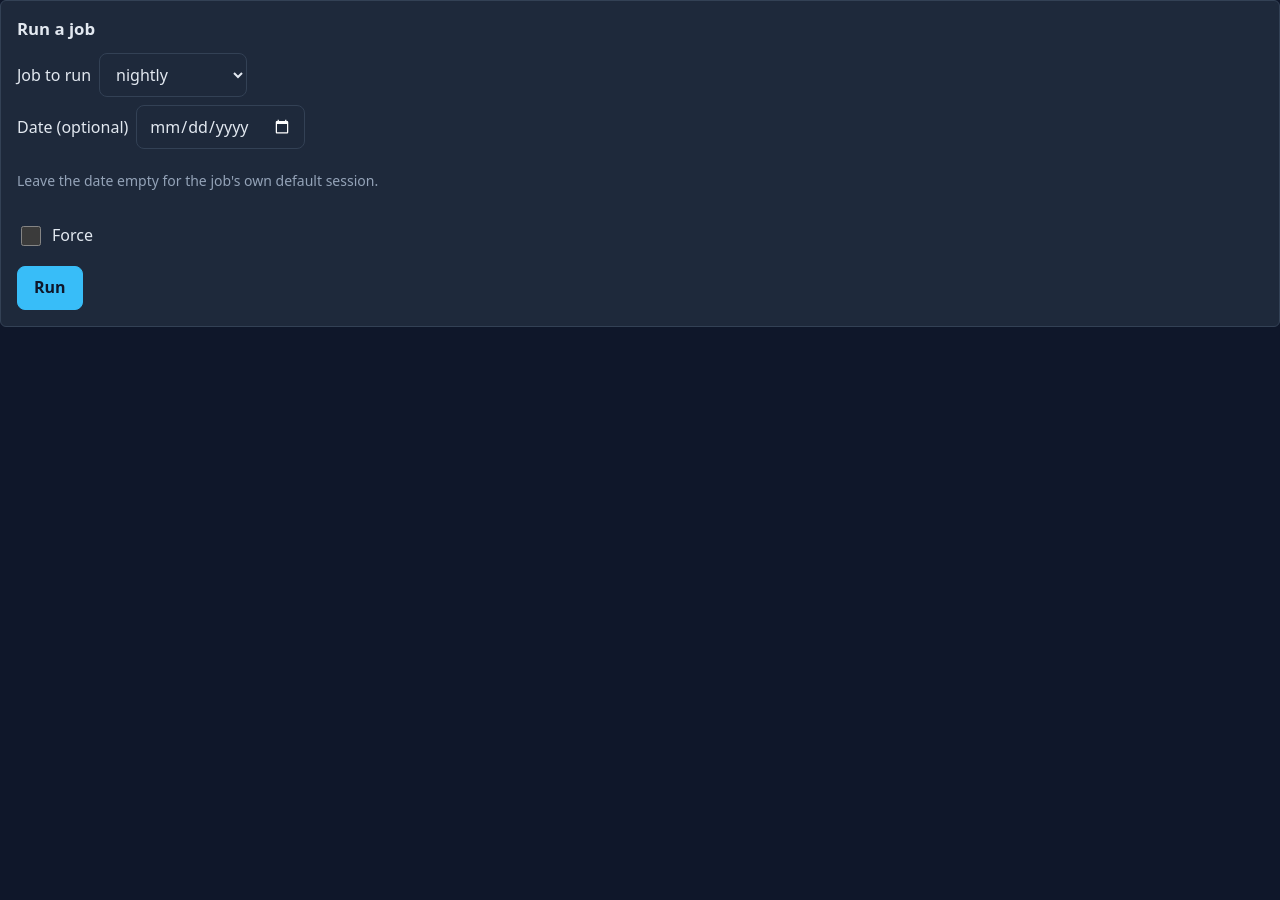
Test: RunJob (acceptance test 4) › shows the launched session, or 'no date' when the launch has none (P4-T18)
The width and height of the screenshot is (1280, 900).
Select "token-refresh" in the dropdown labelled "Job to run". click: (173, 75)
box: [99,53,247,97]
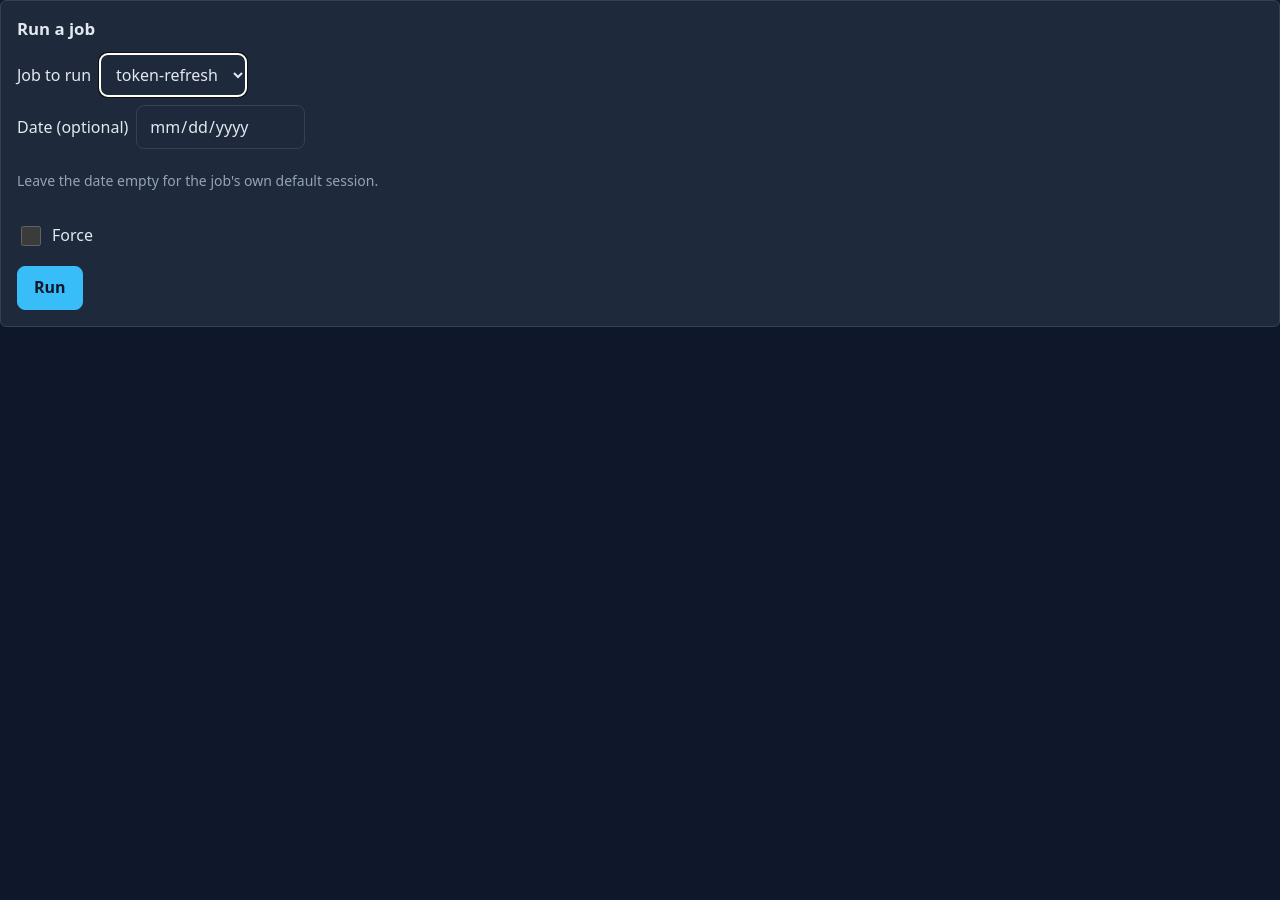
Click the button "Run". click: (50, 288)
box: [17,266,83,310]
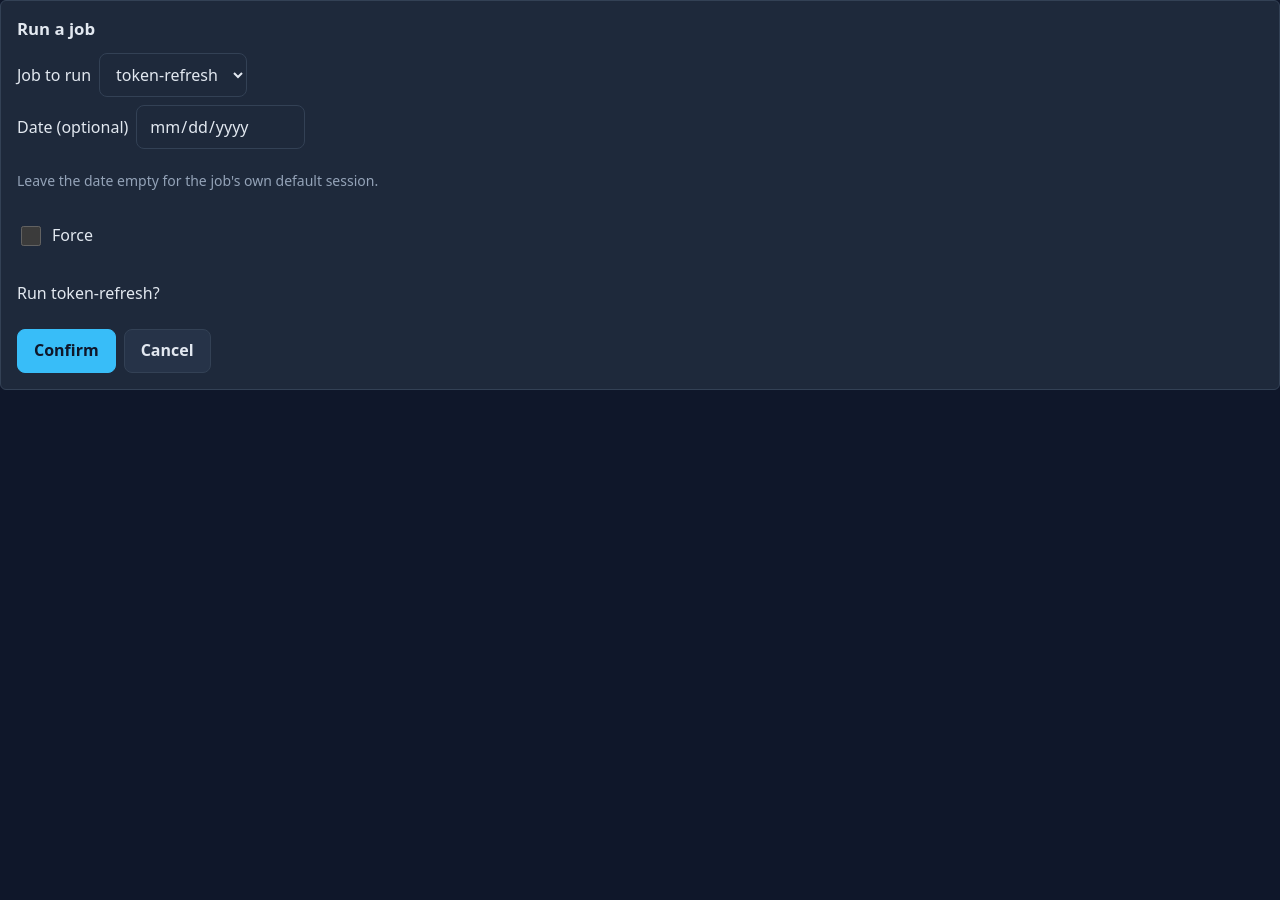
Click the button "Confirm". click: (66, 351)
box: [17,329,116,373]
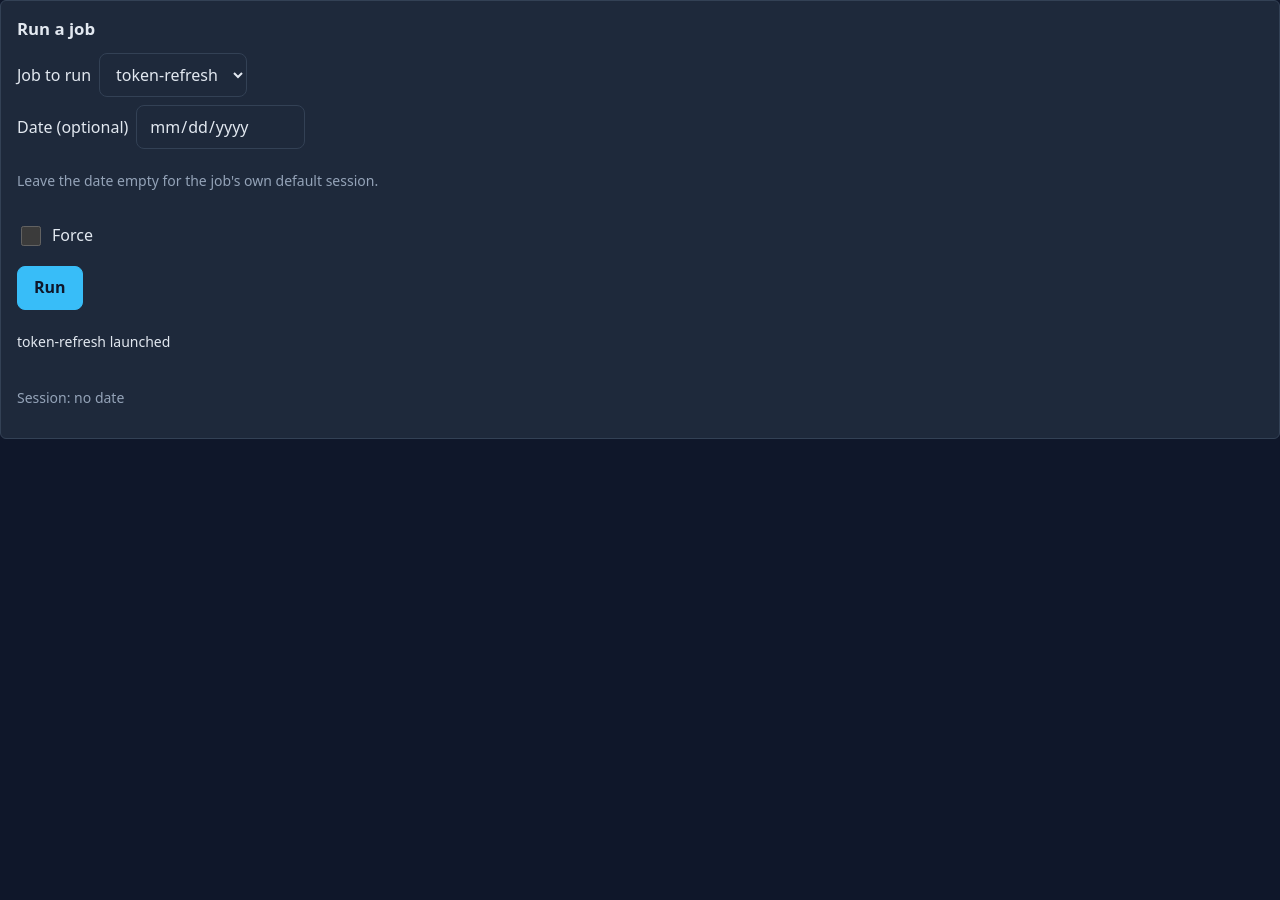
Expected: the text "token-refresh launched" is shown, [17,332,170,351]
Expected: the text "Session: no date" is shown, [17,388,124,407]
